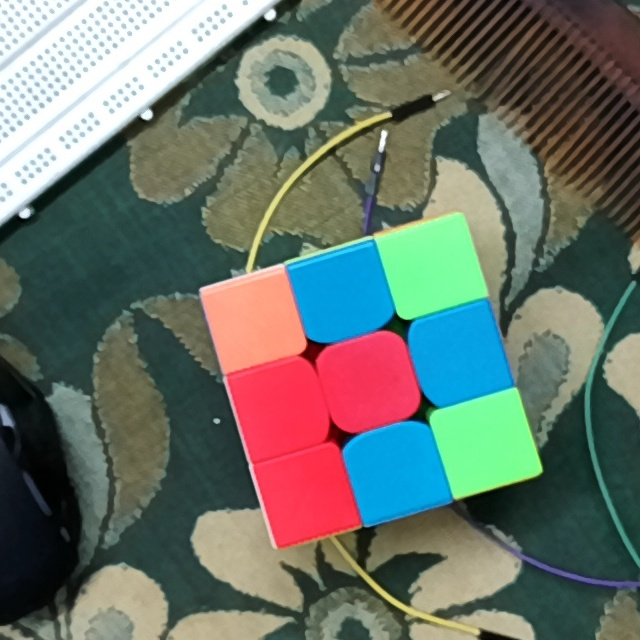tile: (333, 347, 405, 420), (269, 461, 340, 530), (426, 319, 494, 391), (450, 411, 520, 479), (248, 370, 313, 443), (219, 286, 287, 355), (307, 262, 377, 329), (363, 439, 431, 506), (399, 234, 466, 301)
